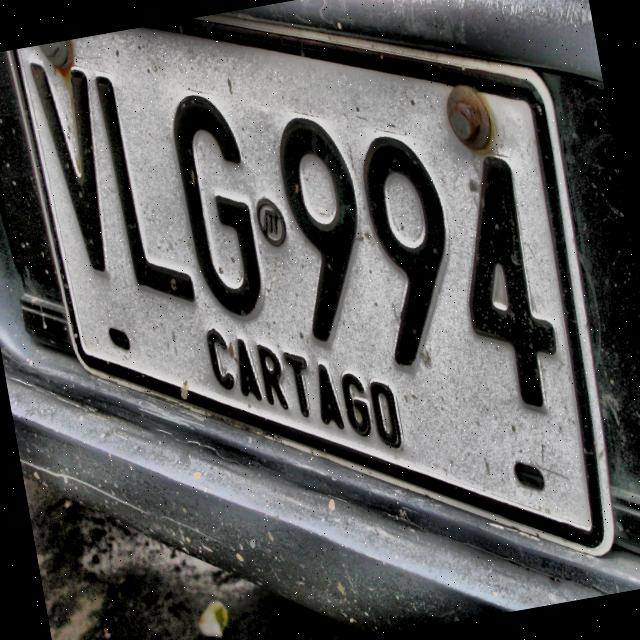plate: (9, 51, 607, 545)
